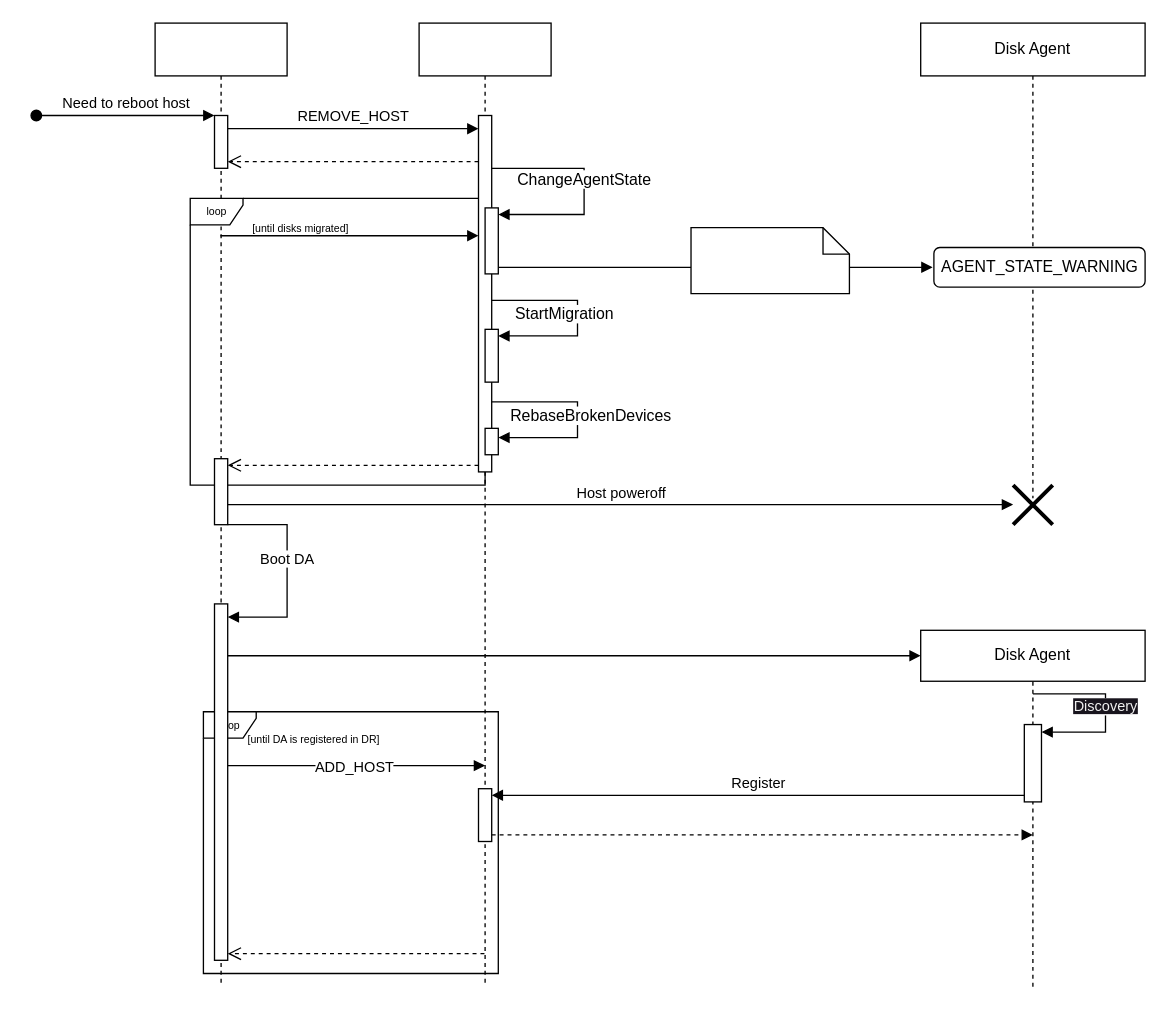
The diagram is 1168 pixels wide and 1011 high, and some of its shapes have lost their labels. The centre of each missing label's shape, as x and y in pixels:
"Disk Agent's state is stored in Disk Registry, there's no actual message sent" goes at (x=769, y=260).
"Disk Registry" goes at (x=484, y=504).
"Infra" goes at (x=220, y=504).
